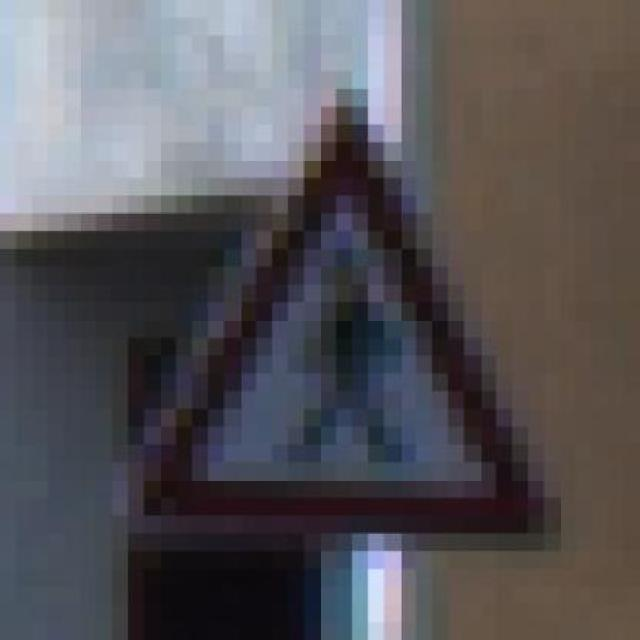Pedestrian Crossing: (109, 57, 573, 572)
